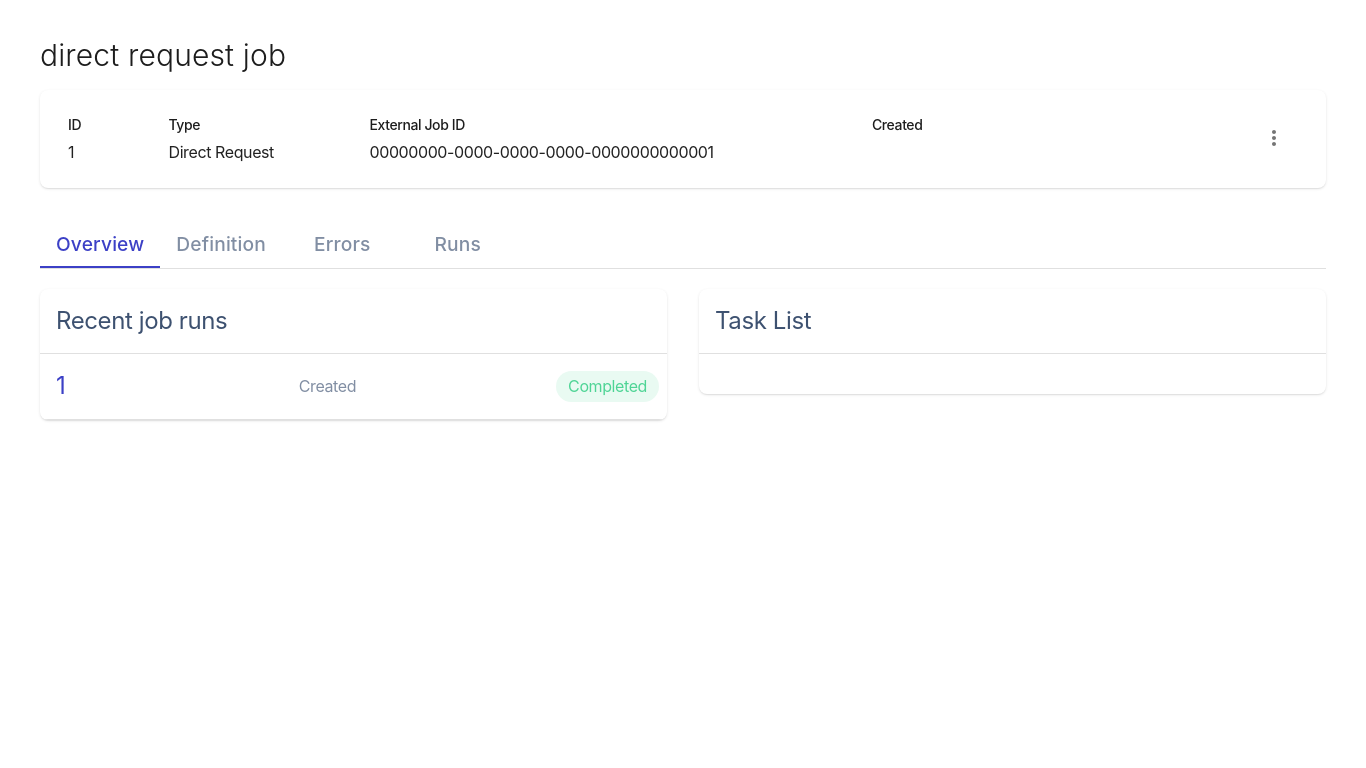
JobScreen › handles not found on job delete
Click the button named "open-menu" at {"x": 1274, "y": 138}, box [1250, 114, 1298, 162]
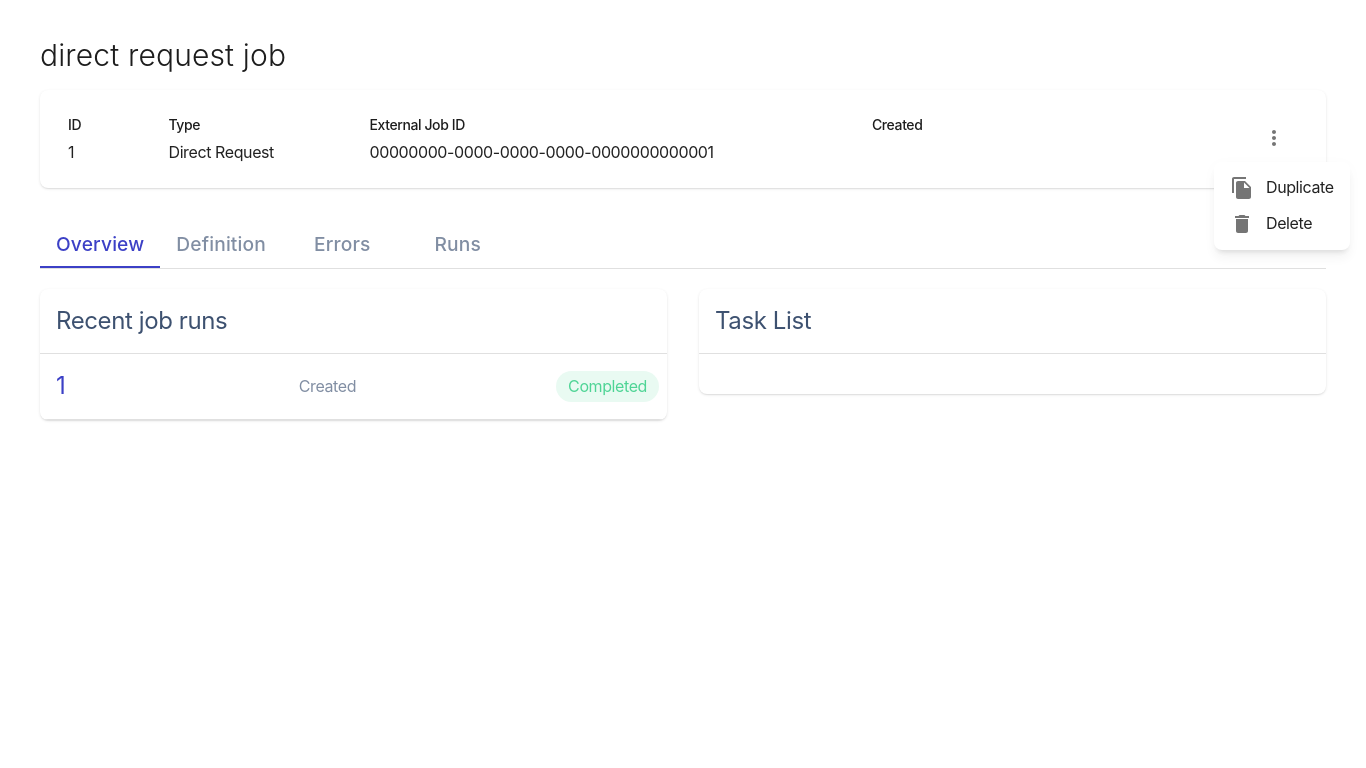
Click the menu item "Delete" at {"x": 1271, "y": 224}, box [1230, 212, 1312, 236]
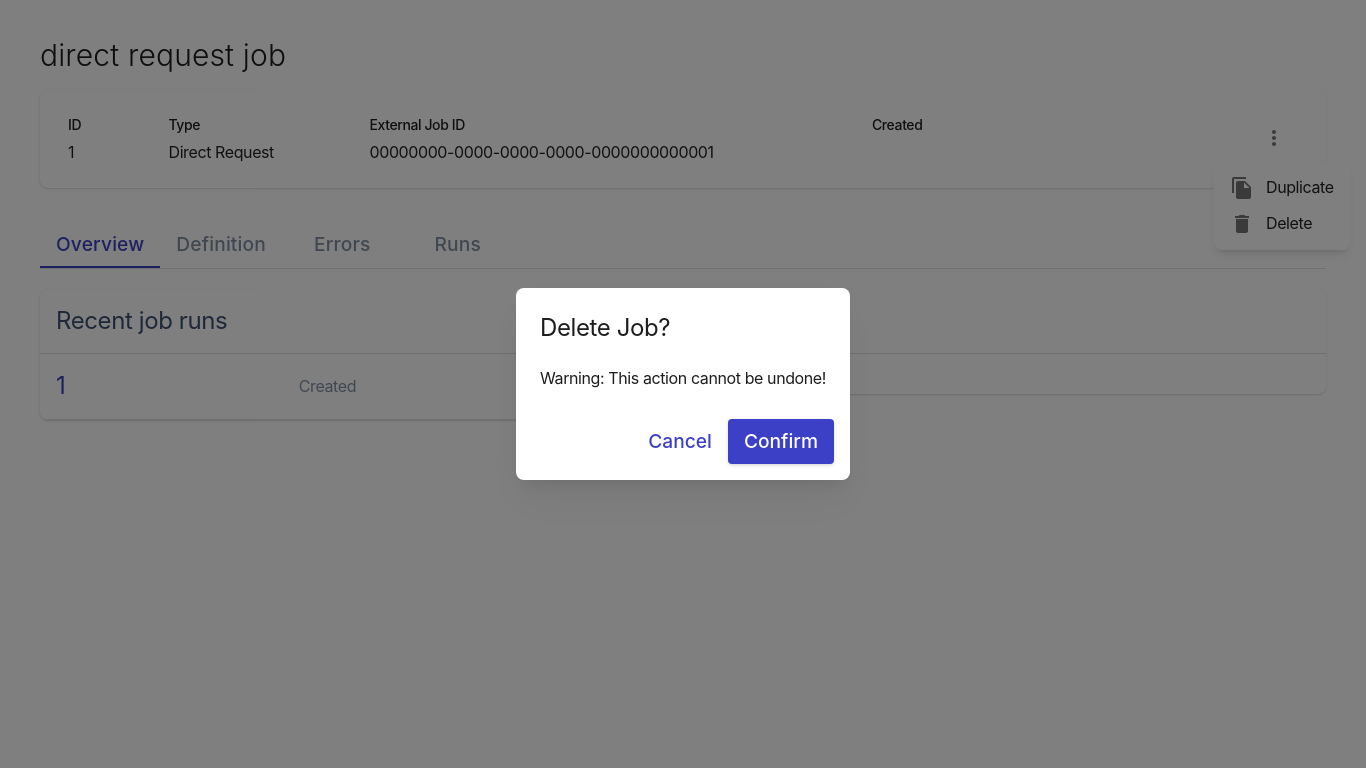
Click the button "Confirm" at {"x": 781, "y": 442}, box [728, 419, 834, 464]
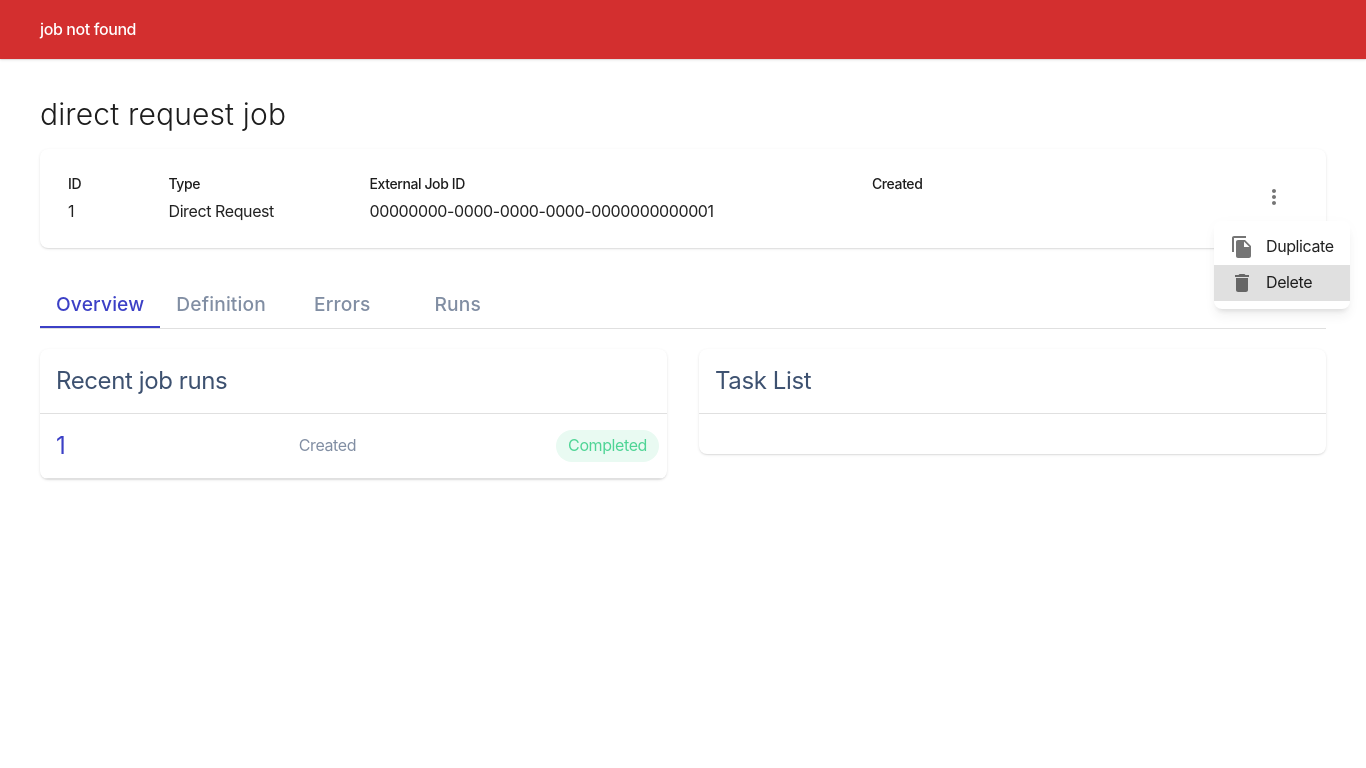
Now the text "job not found" is shown, box [40, 19, 136, 39]
